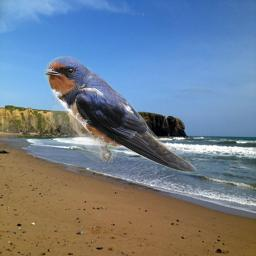Swallow: (43, 56, 197, 173)
